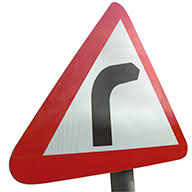Bend_to_right: (8, 1, 189, 185)
